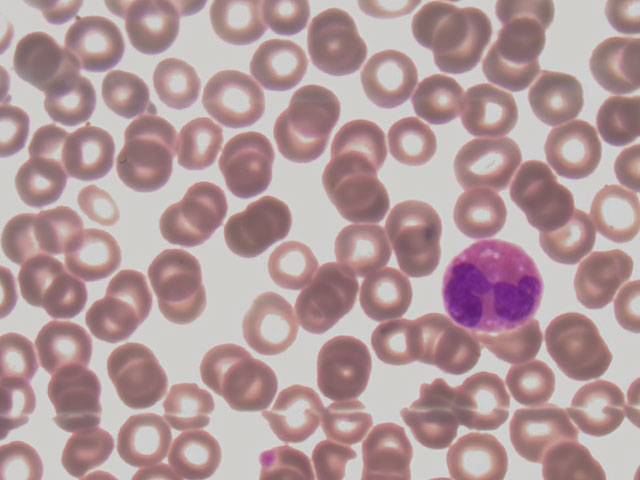RBC: (11, 30, 65, 85), (42, 73, 96, 128), (30, 117, 84, 172), (12, 154, 66, 209), (60, 123, 114, 178), (31, 196, 85, 251), (1, 210, 55, 265), (6, 248, 60, 303), (36, 268, 90, 323), (67, 226, 121, 281), (103, 267, 157, 322), (83, 291, 137, 346), (37, 320, 91, 375), (44, 362, 98, 417), (57, 422, 111, 477), (119, 409, 173, 464), (114, 360, 168, 415), (106, 330, 160, 385), (151, 242, 205, 297), (157, 276, 211, 331), (197, 338, 251, 393), (166, 374, 220, 429), (171, 425, 225, 480), (223, 360, 277, 415), (240, 293, 294, 348), (286, 285, 340, 340), (307, 260, 361, 315), (267, 239, 321, 294), (222, 213, 276, 268), (245, 189, 299, 244), (188, 181, 242, 236), (153, 194, 207, 249), (224, 156, 278, 211), (219, 126, 273, 181), (178, 114, 232, 169), (124, 112, 178, 167), (123, 145, 177, 200), (99, 69, 153, 124), (152, 55, 206, 110), (66, 15, 120, 70), (126, 1, 180, 56), (251, 36, 305, 91), (210, 67, 264, 122), (290, 81, 344, 136), (276, 105, 330, 160), (329, 115, 383, 170), (319, 139, 373, 194), (338, 169, 392, 224), (341, 216, 395, 271), (362, 269, 416, 324), (369, 317, 423, 372), (320, 345, 374, 400), (270, 389, 324, 444), (324, 397, 378, 452), (363, 415, 417, 470), (412, 399, 466, 454), (461, 370, 515, 425), (435, 329, 489, 384), (396, 303, 450, 358), (507, 352, 561, 407), (494, 320, 548, 375), (543, 303, 597, 358), (562, 333, 616, 388), (573, 388, 627, 443), (516, 404, 570, 459), (448, 425, 502, 480), (569, 249, 623, 304), (544, 210, 598, 265), (523, 185, 577, 240), (510, 159, 564, 214), (459, 138, 513, 193), (453, 185, 507, 240), (388, 194, 442, 249), (387, 234, 441, 289), (388, 114, 442, 169), (414, 74, 468, 129), (366, 52, 420, 107), (308, 22, 362, 77), (436, 12, 490, 67), (504, 9, 558, 64), (487, 33, 541, 88), (536, 69, 590, 124), (466, 81, 520, 136), (550, 124, 604, 179), (586, 39, 640, 94), (409, 1, 463, 55), (208, 1, 266, 47)
WBC: (440, 238, 543, 335)
